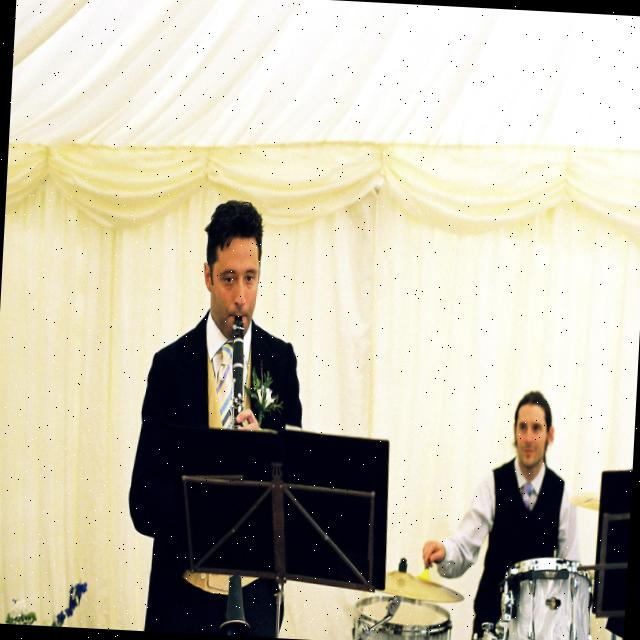clarinet: (208, 315, 270, 636)
drums: (348, 543, 595, 640)
